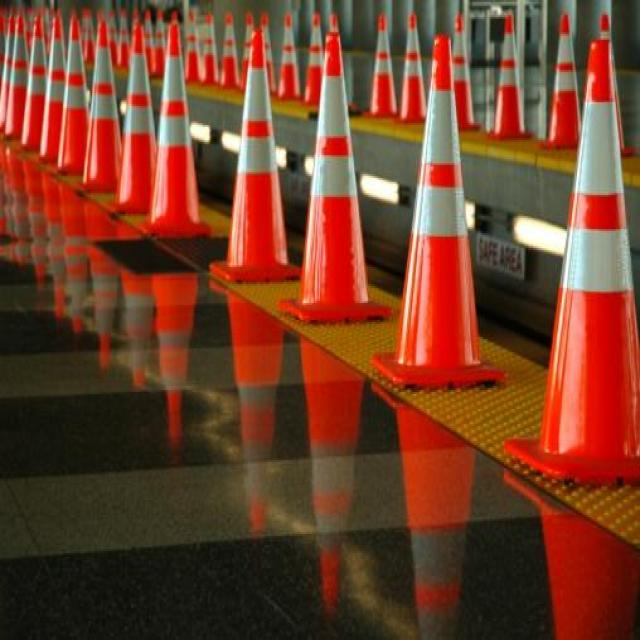Cone: (528, 43, 640, 481), (391, 36, 490, 388), (295, 34, 380, 320), (213, 30, 292, 275), (154, 27, 204, 238), (116, 23, 155, 212), (80, 23, 118, 193), (543, 13, 576, 152), (494, 15, 529, 140), (63, 19, 88, 176), (25, 15, 48, 154), (374, 14, 396, 116)
